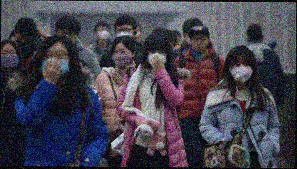with_mask: (38, 47, 71, 79), (228, 58, 255, 85), (144, 48, 169, 69), (1, 48, 20, 70), (112, 48, 134, 67), (14, 34, 34, 54), (114, 25, 136, 40), (96, 28, 111, 42)
without_mask: (189, 34, 210, 53), (56, 28, 78, 46)
